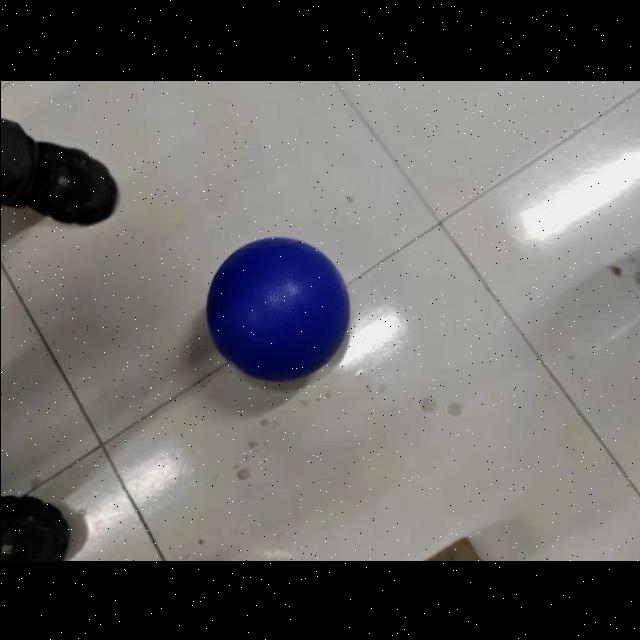B: (200, 232, 358, 386)
